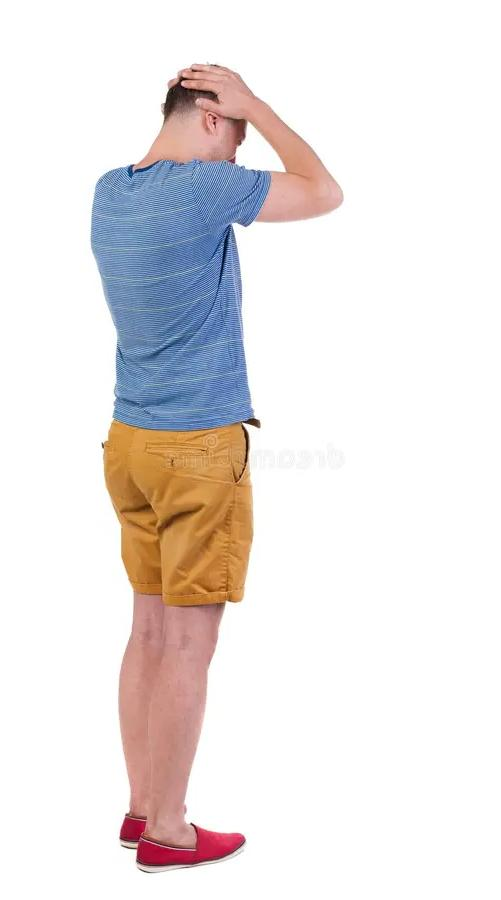Shorts: (98, 416, 256, 607)
short sleeve shirt: (88, 159, 274, 431)
